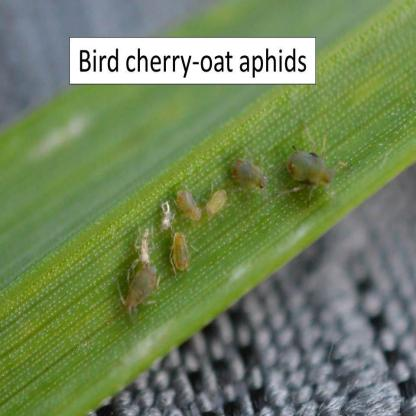aphid: (282, 130, 337, 198), (119, 254, 173, 317), (224, 150, 262, 192), (166, 233, 203, 275), (177, 190, 205, 228), (204, 185, 230, 224)
